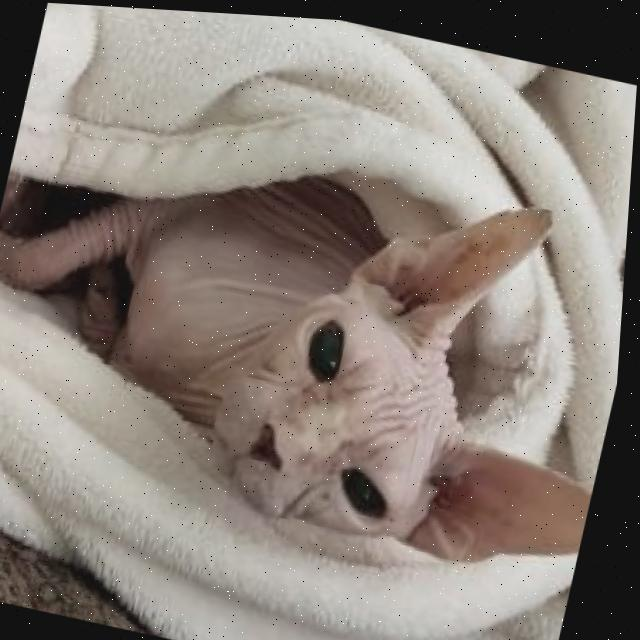Sphynx: (0, 82, 636, 585)
